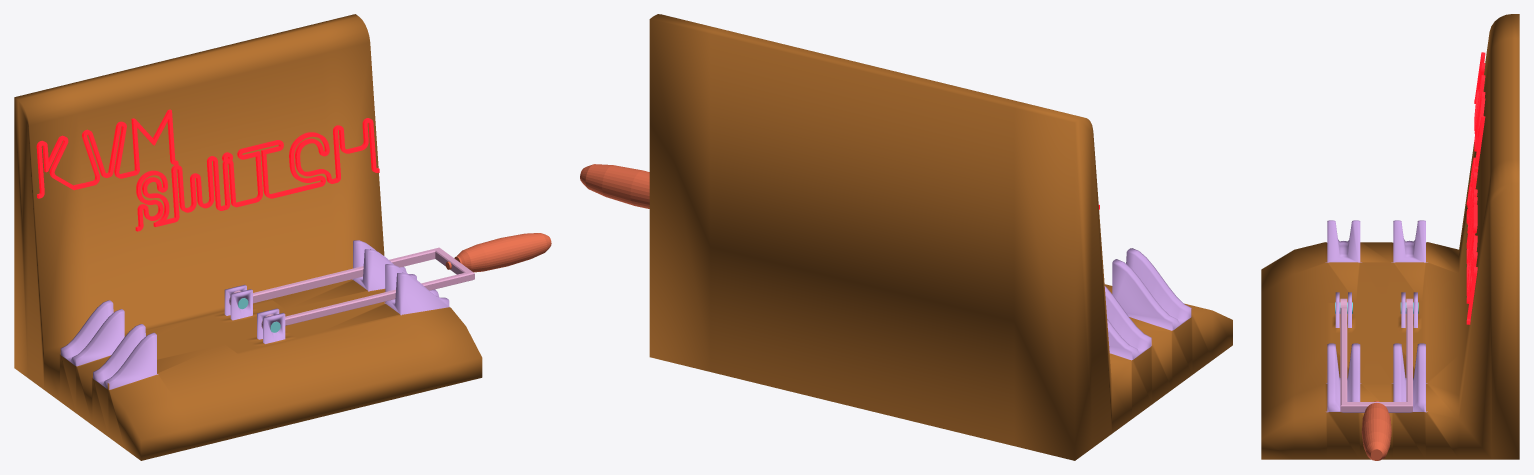
Rendered from KVMSwitch.fbx.
3 renders of one model, left to right at view 1: azimuth 30°, elevation 25°; view 2: azimuth 150°, elevation 25°; view 3: azimuth 270°, elevation 25°, orthographic. The views are drawn at different scales.
Parts seen in each view (by area): view 1: base, KVM Switch, Fork, Handle; view 2: base, Handle; view 3: base, KVM Switch, Fork, Handle.
Part boxes in pixels (left/top/right/bottom): base: left=14, top=14, right=482, bottom=460; KVM Switch: left=36, top=109, right=379, bottom=231; Fork: left=229, top=247, right=474, bottom=328; Handle: left=445, top=233, right=551, bottom=272; base: left=649, top=14, right=1232, bottom=460; Handle: left=580, top=164, right=649, bottom=208; base: left=1261, top=14, right=1519, bottom=459; KVM Switch: left=1466, top=52, right=1485, bottom=324; Fork: left=1340, top=298, right=1412, bottom=412; Handle: left=1361, top=401, right=1391, bottom=460.
Bounding box in the file's own units: 1904 × 1063 × 900.
